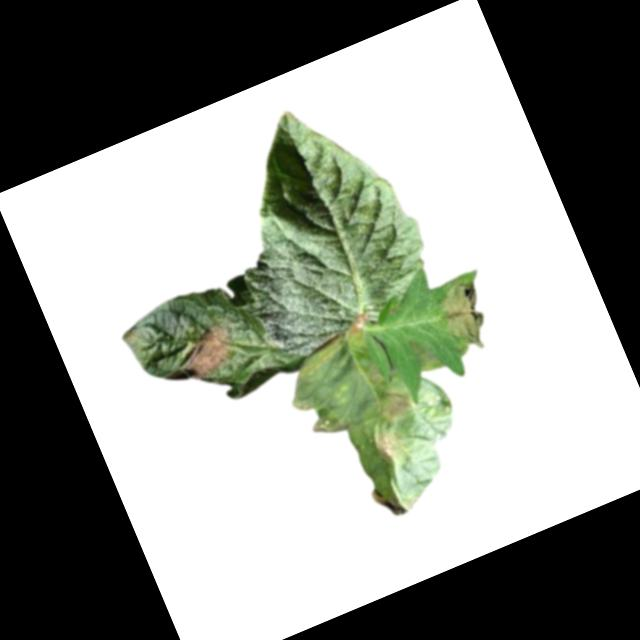Late_blight: (431, 270, 503, 358), (170, 318, 247, 389), (293, 330, 352, 376), (403, 327, 448, 378), (369, 379, 419, 424), (368, 421, 413, 468), (369, 476, 410, 522), (307, 403, 356, 441), (343, 309, 378, 339)
healthy: (188, 78, 450, 366)
